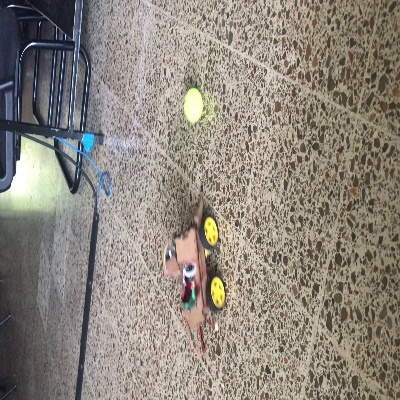Ball: (183, 89, 203, 121)
Robot: (164, 200, 226, 332)
